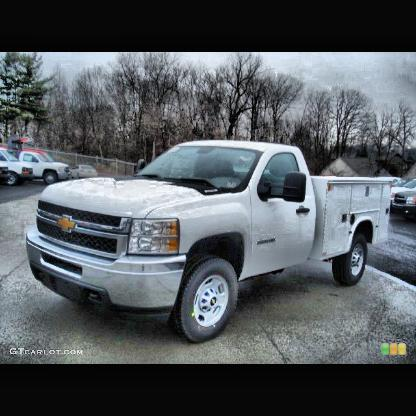Chevrolet Silverado 2500HD Regular Cab 2012: (28, 141, 390, 341)
